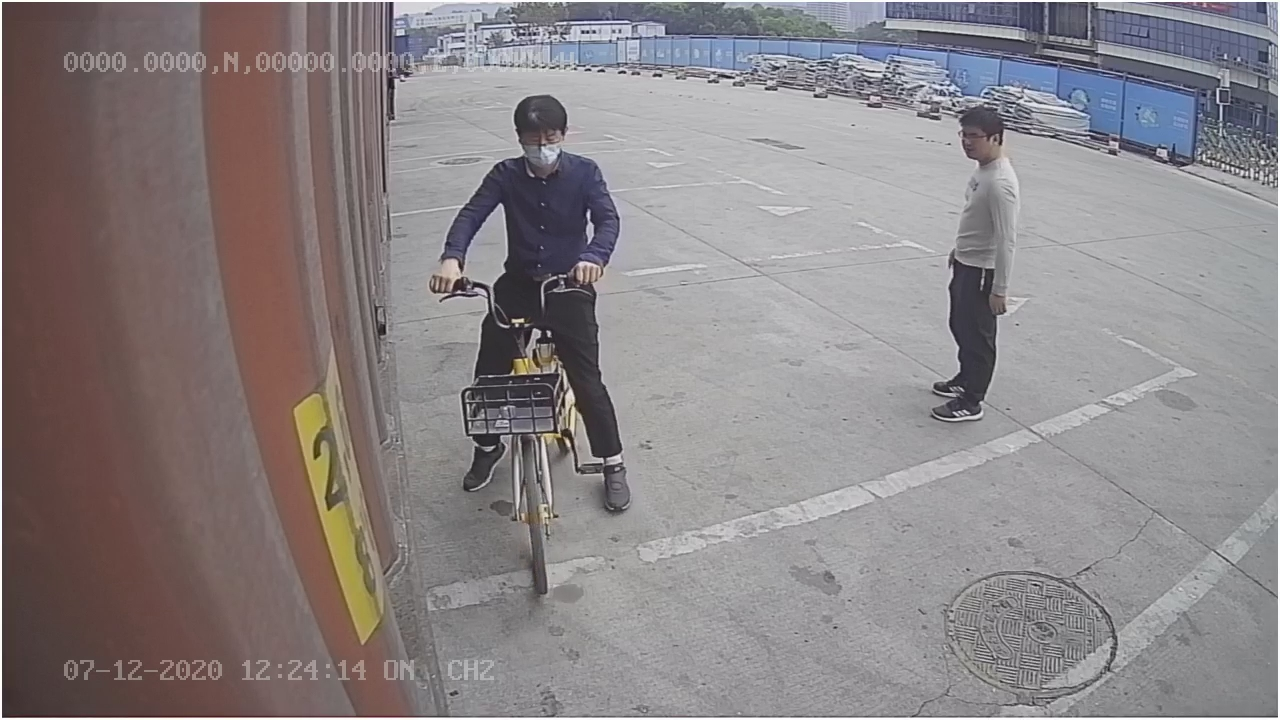person: (927, 104, 1023, 428)
